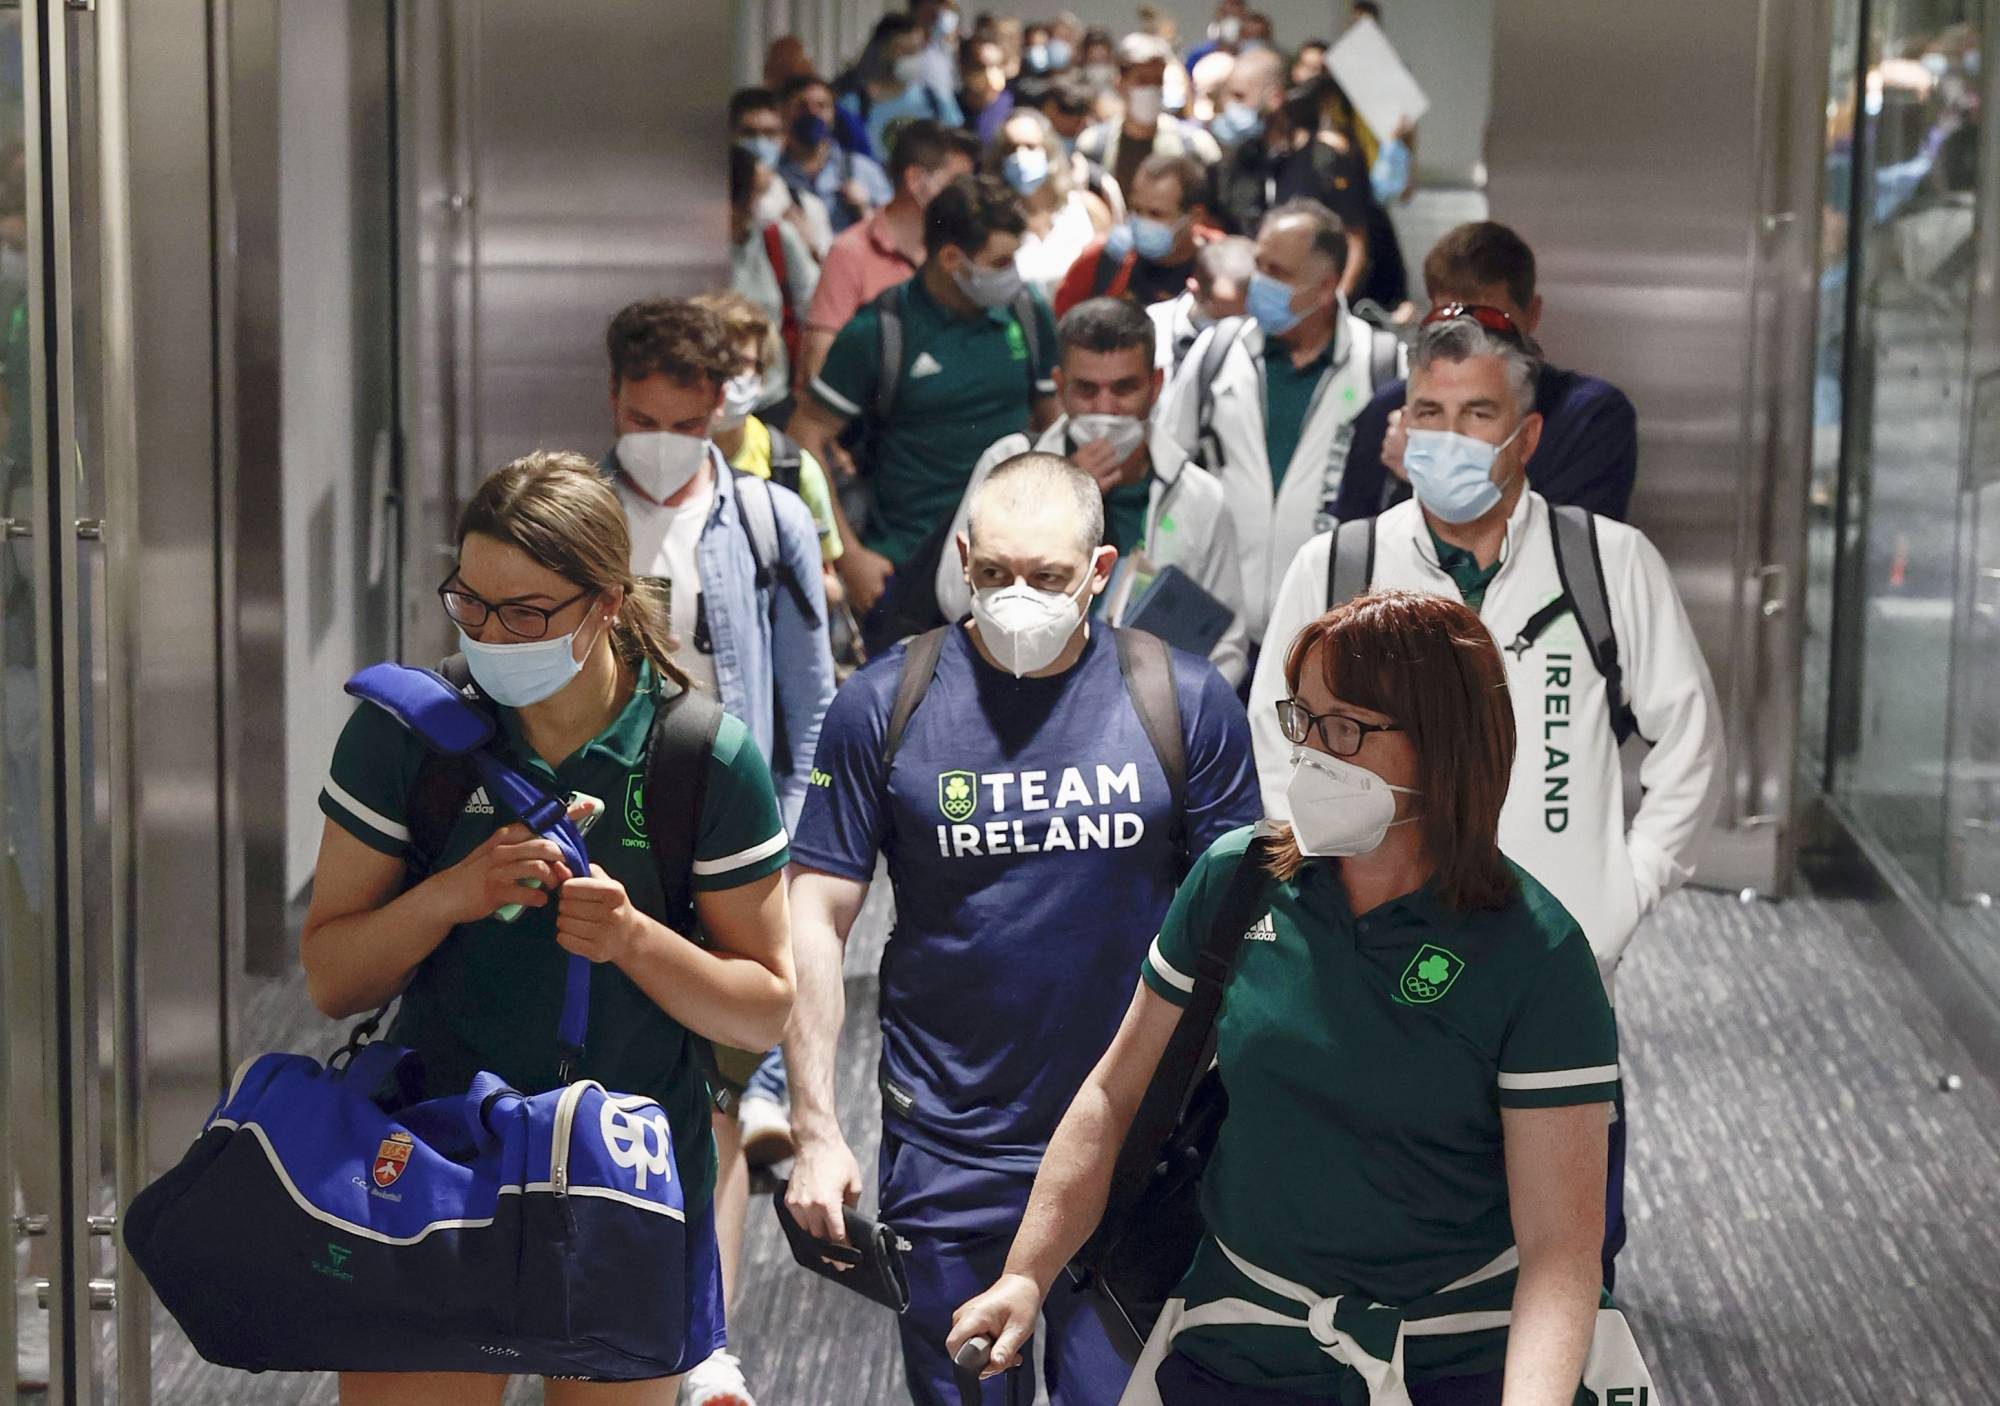with_incorrect_mask: (1072, 360, 1141, 438)
with_mask: (1297, 685, 1416, 874), (461, 556, 586, 693), (975, 528, 1068, 665), (1411, 378, 1513, 495), (1249, 245, 1318, 376), (628, 367, 702, 468), (955, 223, 1028, 304), (1125, 181, 1191, 263)
